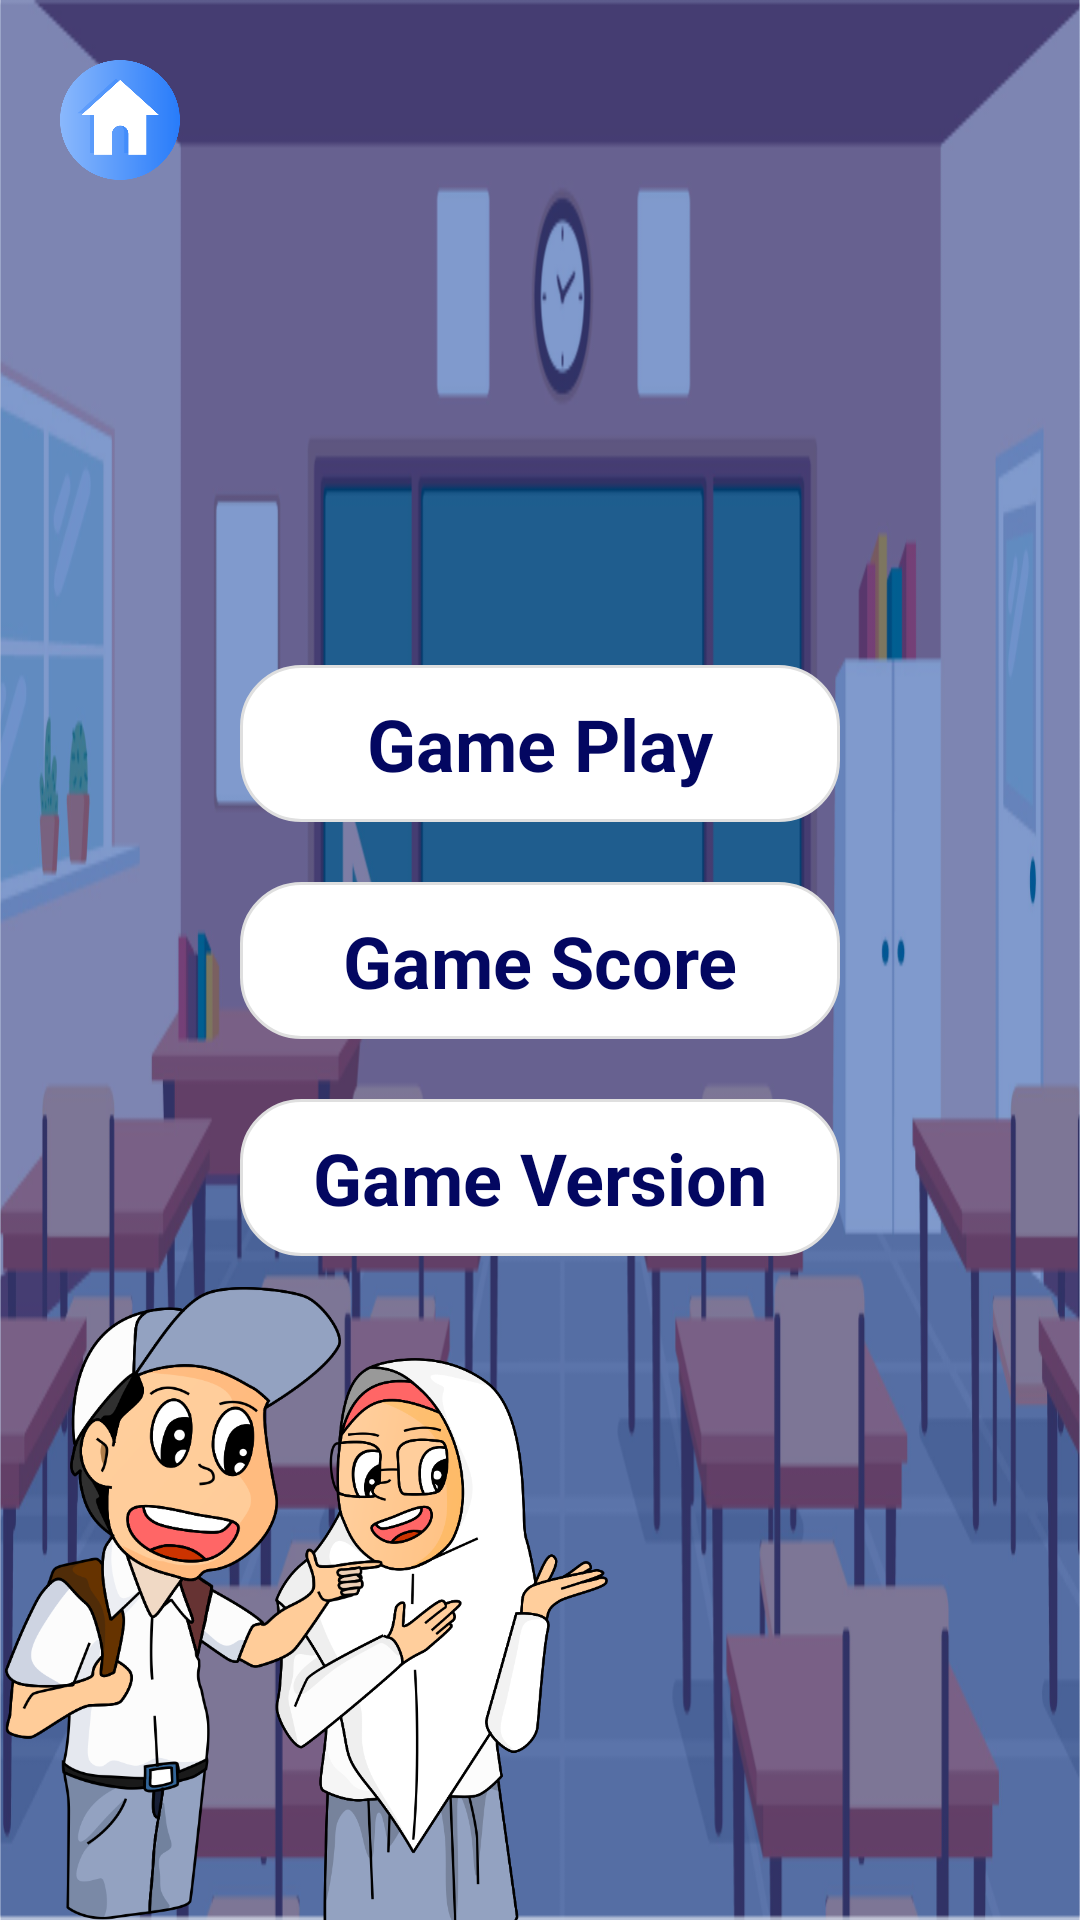

Named icons in this screenshot (1080 x 1920) and their centers, [x,y]:
home: [120,120]
